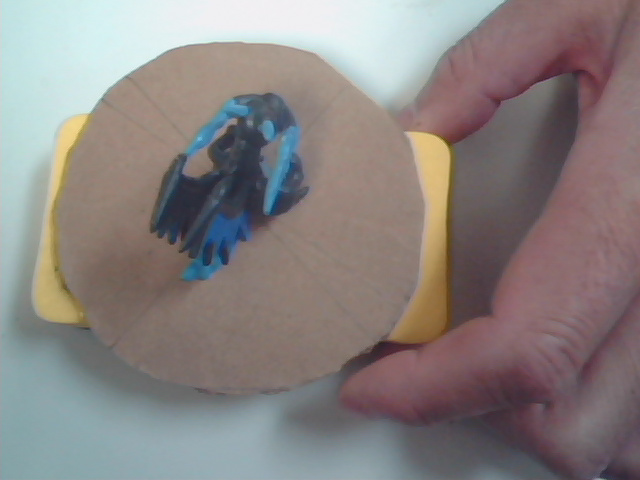charizard: (117, 84, 343, 296)
